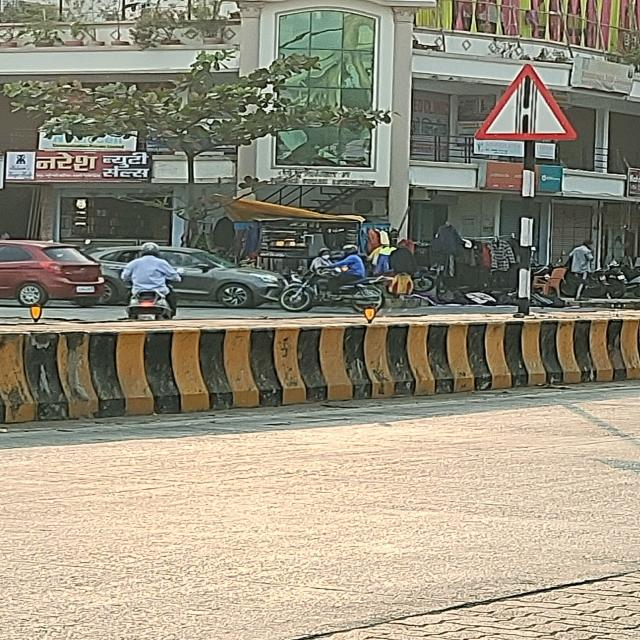GAP_IN_MEDIAN: (474, 65, 581, 139)
